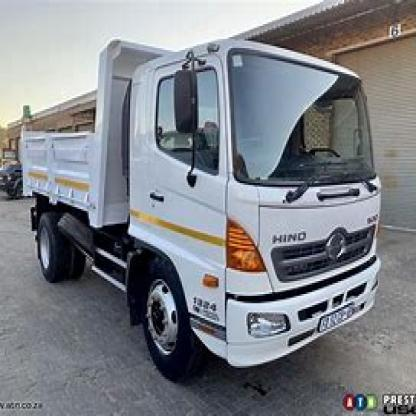dump_truck: (17, 34, 391, 388)
